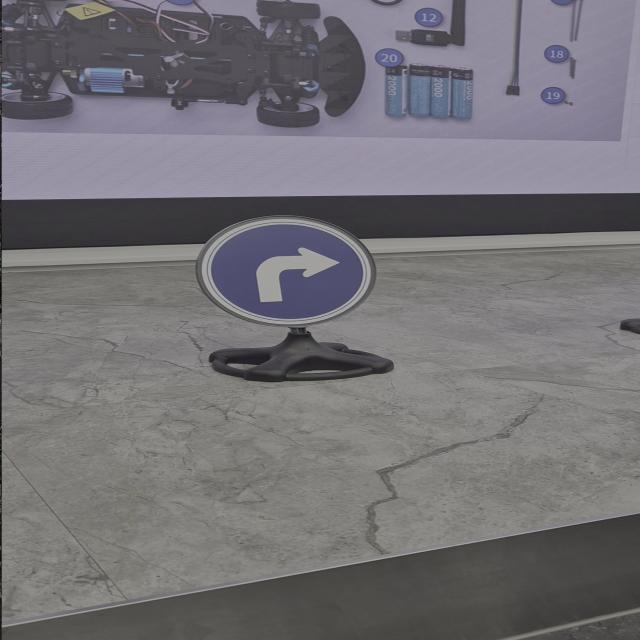right_dierection: (190, 211, 381, 325)
